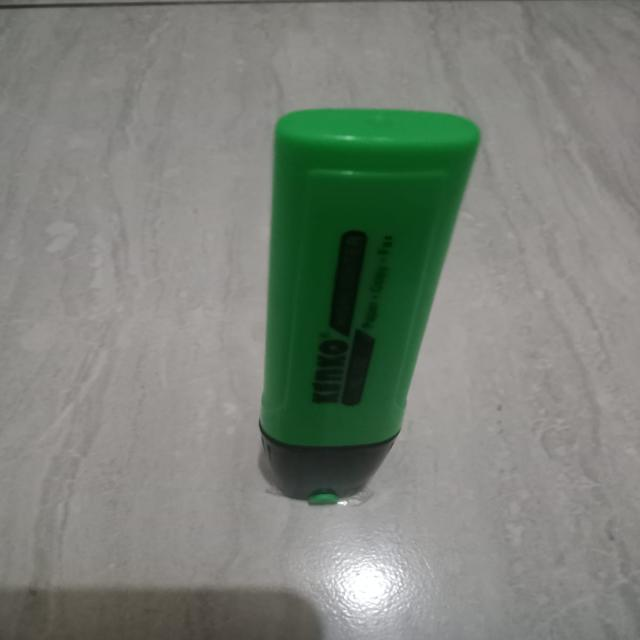highlighter: (218, 98, 498, 530)
